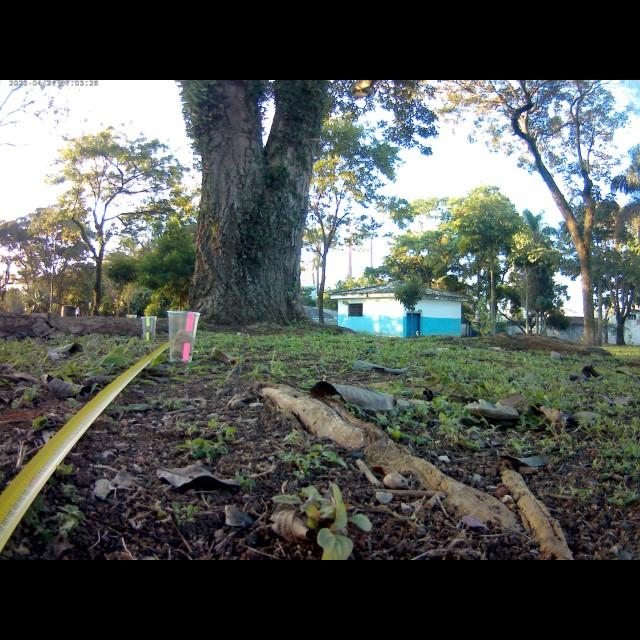arvore: (165, 80, 330, 341)
